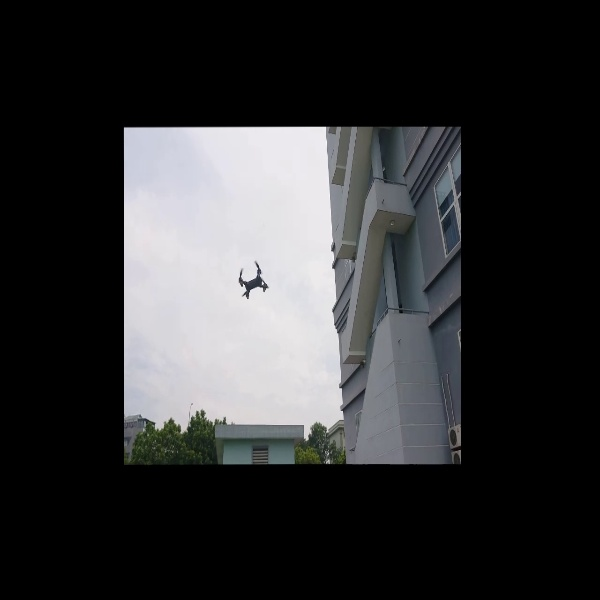drone: (229, 261, 273, 303)
